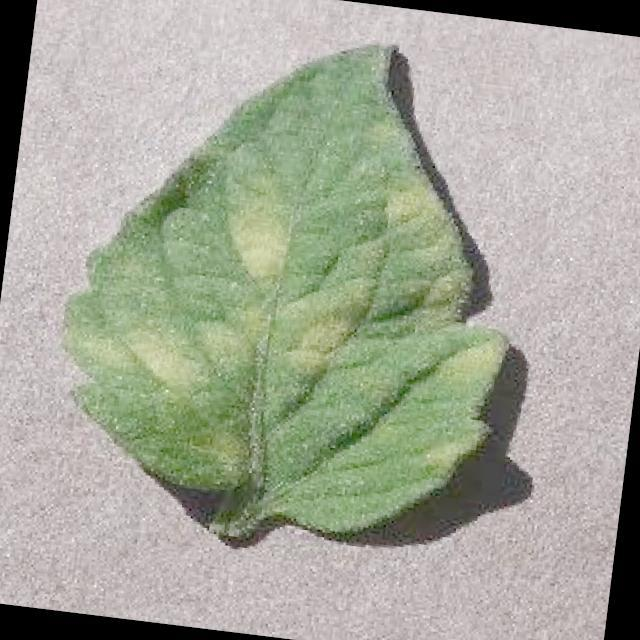Tomato mold leaf: (39, 2, 542, 554)
